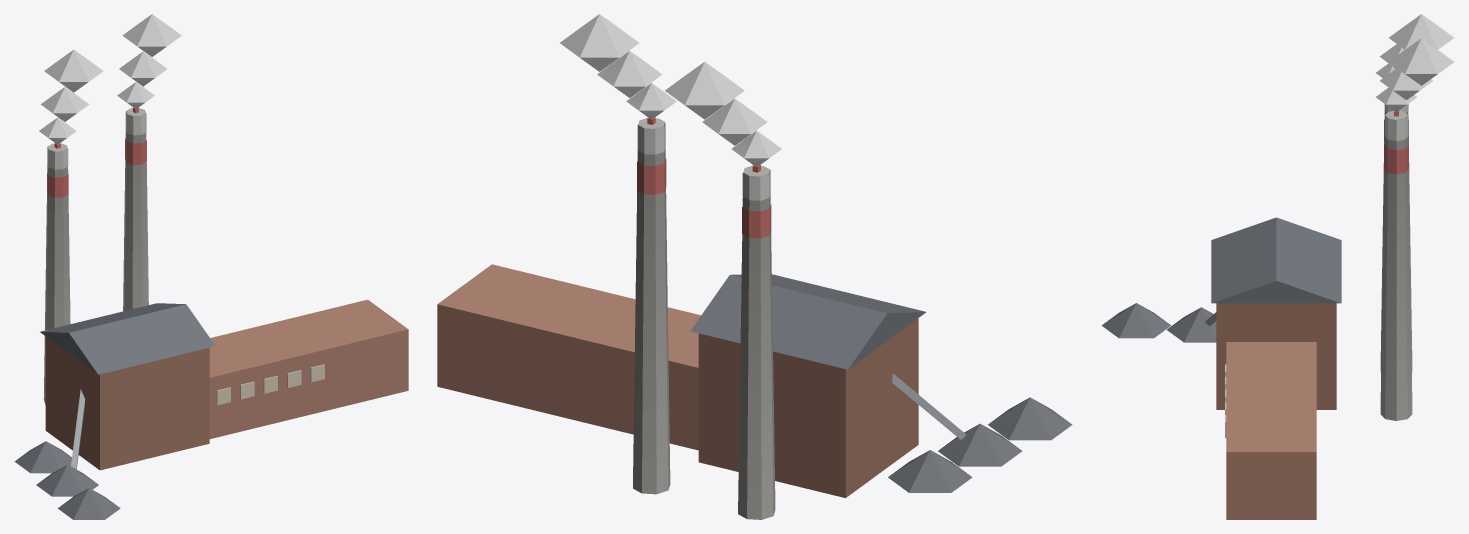
Rendered from plant_steam_l2.glb.
3 views of the same model, side by side, from view 1: azimuth 30°, elevation 25°; view 2: azimuth 150°, elevation 25°; view 3: azimuth 270°, elevation 25° (orthographic). The views are drawn at different scales.
Visible parts, largest first — view 1: plant_steam_l2; view 2: plant_steam_l2; view 3: plant_steam_l2.
Boxes of the visible parts, bbox=[...] form: plant_steam_l2: bbox=[14, 14, 408, 519]; plant_steam_l2: bbox=[437, 14, 1072, 519]; plant_steam_l2: bbox=[1101, 14, 1453, 519].
Bounding box in the file's own units: 98.06 × 86.28 × 70.6.
